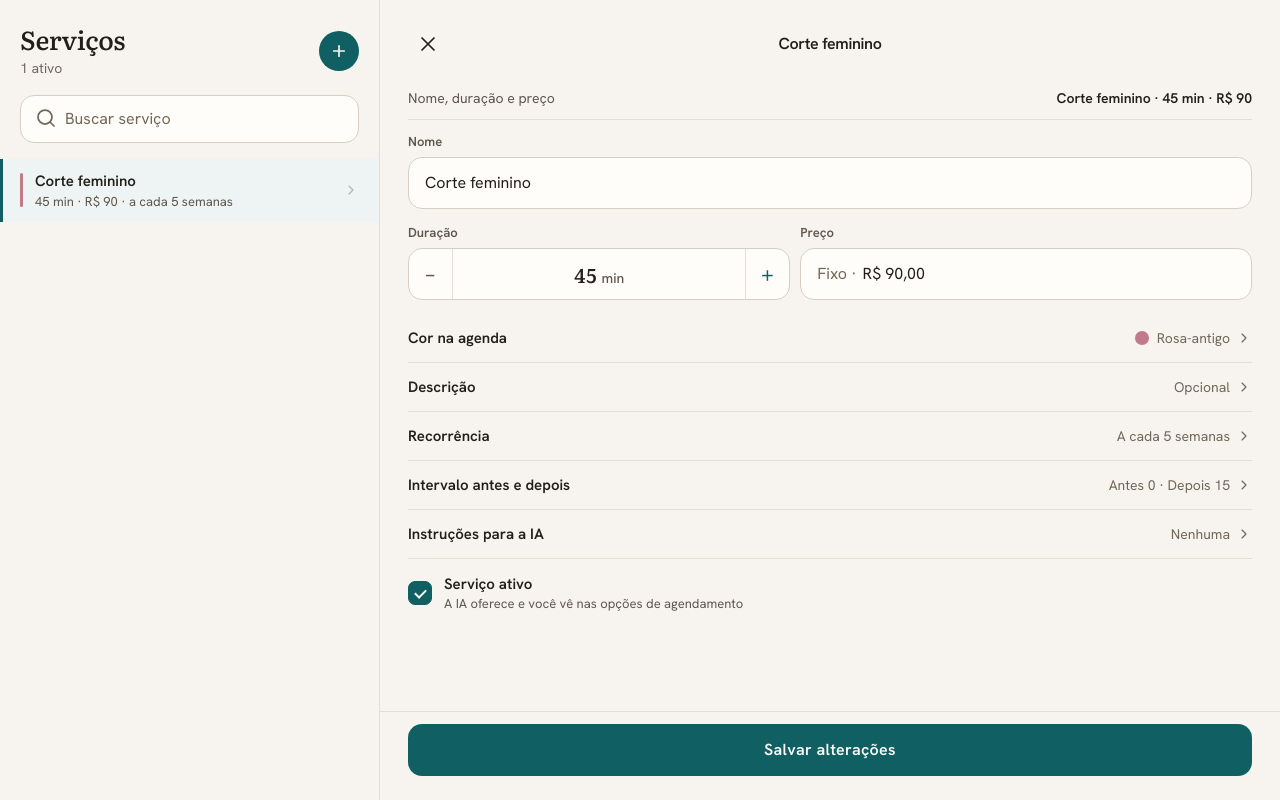
Goal095 prova 3: edição (S4 e Agenda:S1) › sem cor personalizada em nenhum serviço, o seletor não mostra 'Suas cores'
expect the field labelled "Nome" is shown: met, box [408,157,1252,209]
Click the button "Cor na agenda Rosa-antigo" at (458, 338), box [408,314,1252,362]
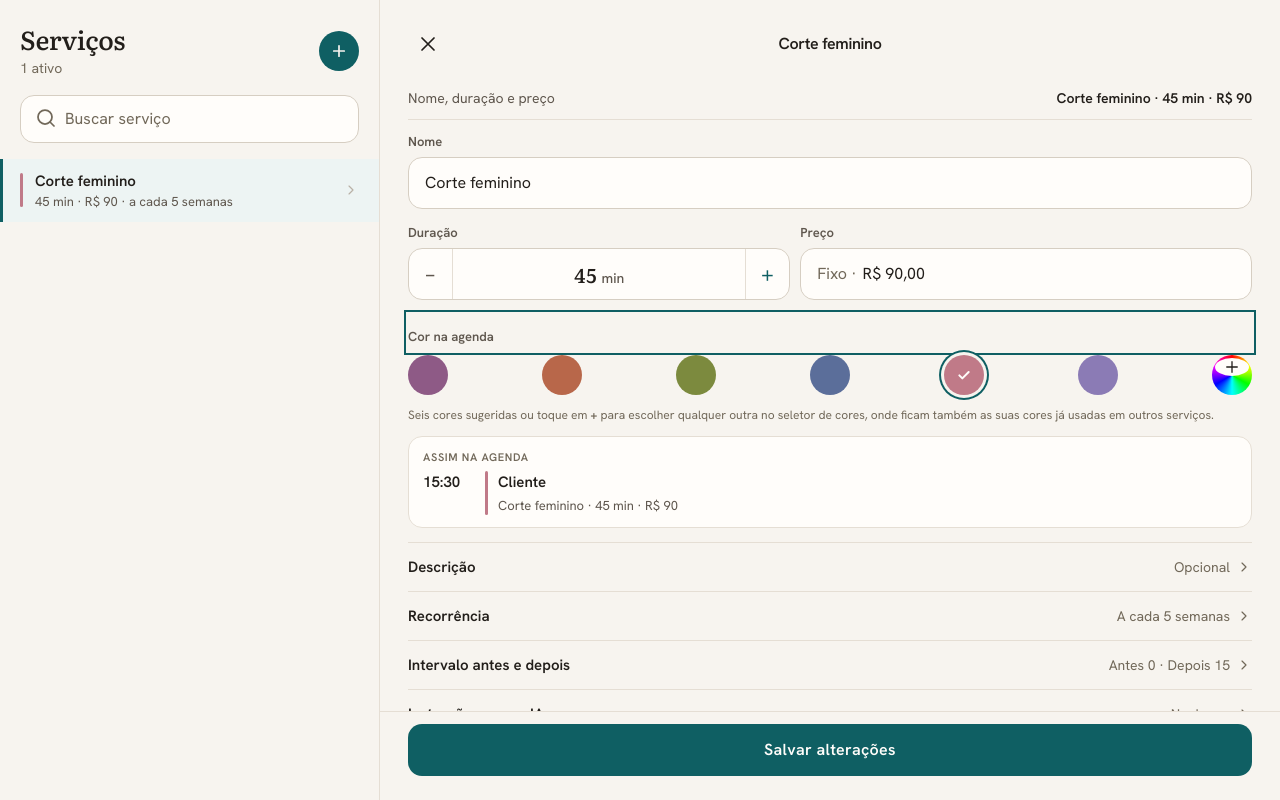
Click the button named "Escolher outra cor" at (1232, 375), box [1212,355,1252,395]
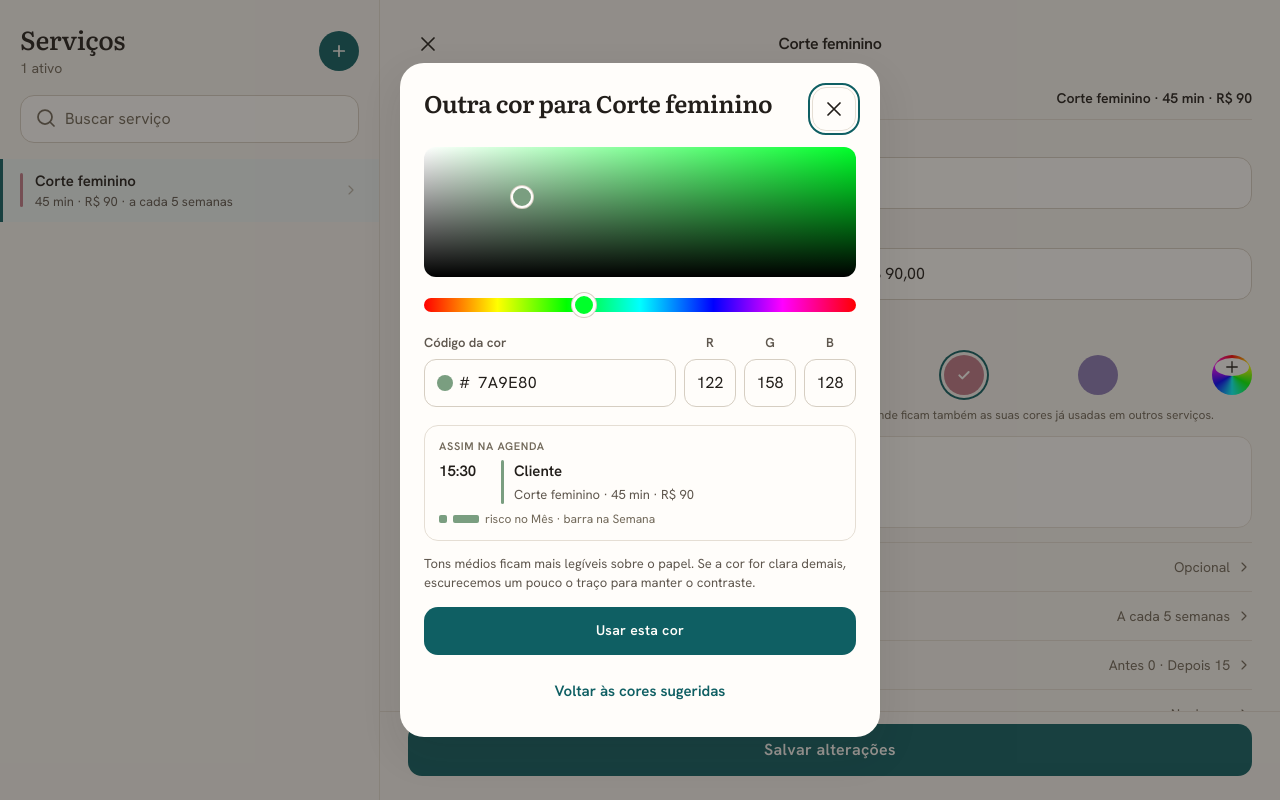
expect the dialog is shown: met, box [400,63,880,737]
